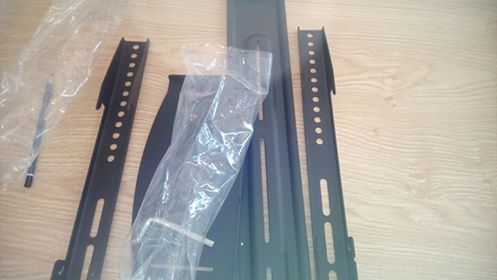plastic bag: (118, 41, 272, 280), (1, 1, 136, 194)
